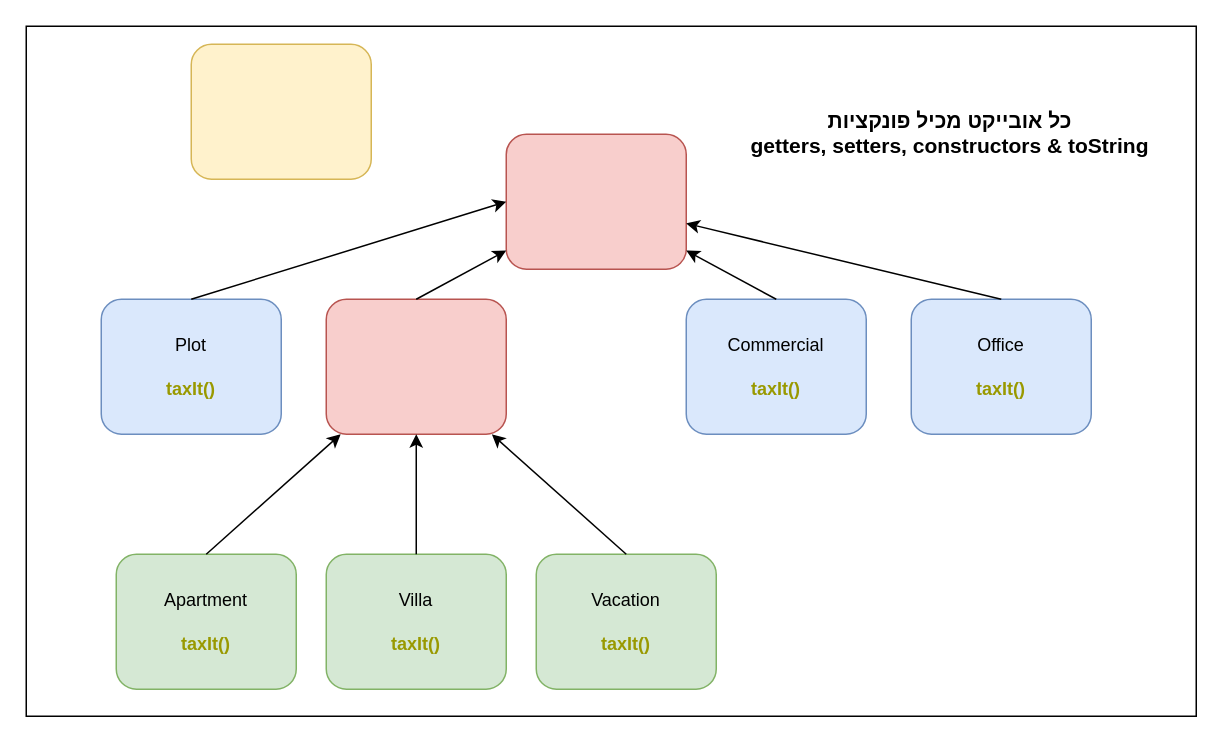
This 1223x743 diagram has some shape labels left out. Here are the shapes that lost their labels. From the top down, the box of each, then its label:
(190, 43, 371, 179): RealEstateManager
(505, 133, 686, 269): Property (abstract) taxIt()
(325, 298, 506, 434): Residential (abstract) * taxIt()
